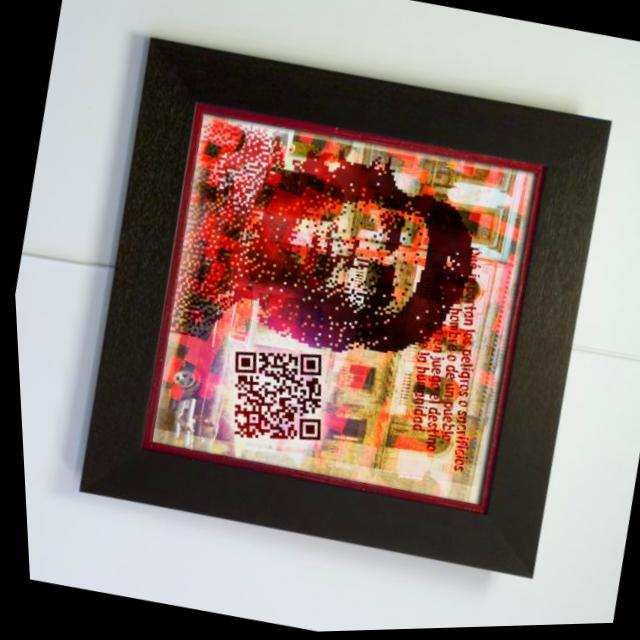qrcode: (214, 339, 333, 457)
